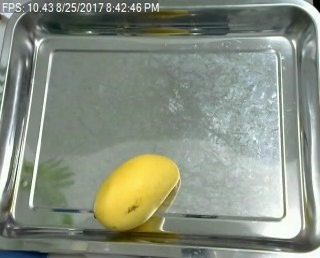Mango: (90, 149, 187, 236)
